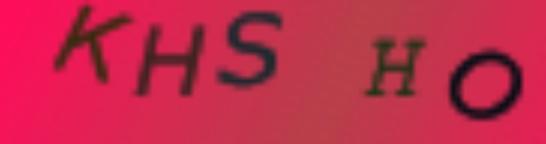H: (130, 19, 210, 99), (363, 36, 429, 99)
K: (51, 6, 132, 83)
O: (446, 48, 528, 122)
S: (214, 4, 288, 92)
